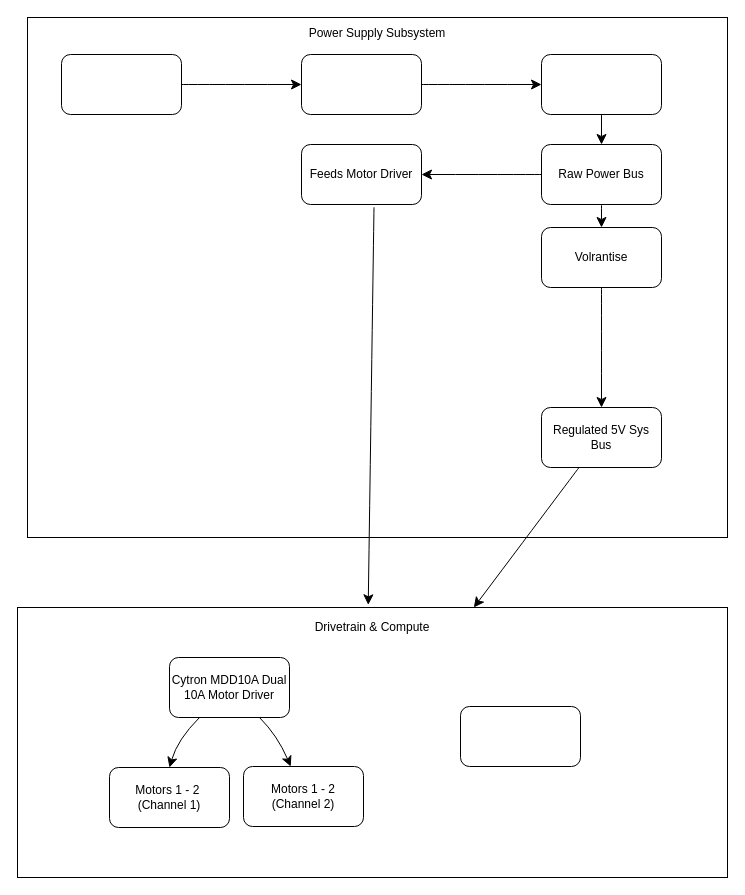
Some shapes in this 745 by 895 pixel diagram are drawn without their labels. The shapes that lost their labels are listed below. From the top down, each one's centre as x and y in pixels, then its label:
[121,84]: OVONIC 3s 11.1V 6500mAh LiPo Battery
[361,84]: Main Fuse & BAT_IN
[601,84]: Emergency Stop
[520,736]: Compute, Vision & Servos
